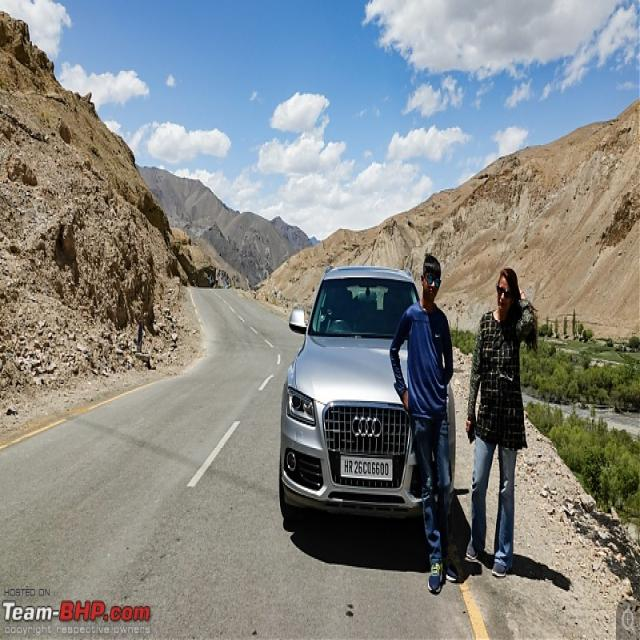plate: (338, 451, 395, 485)
